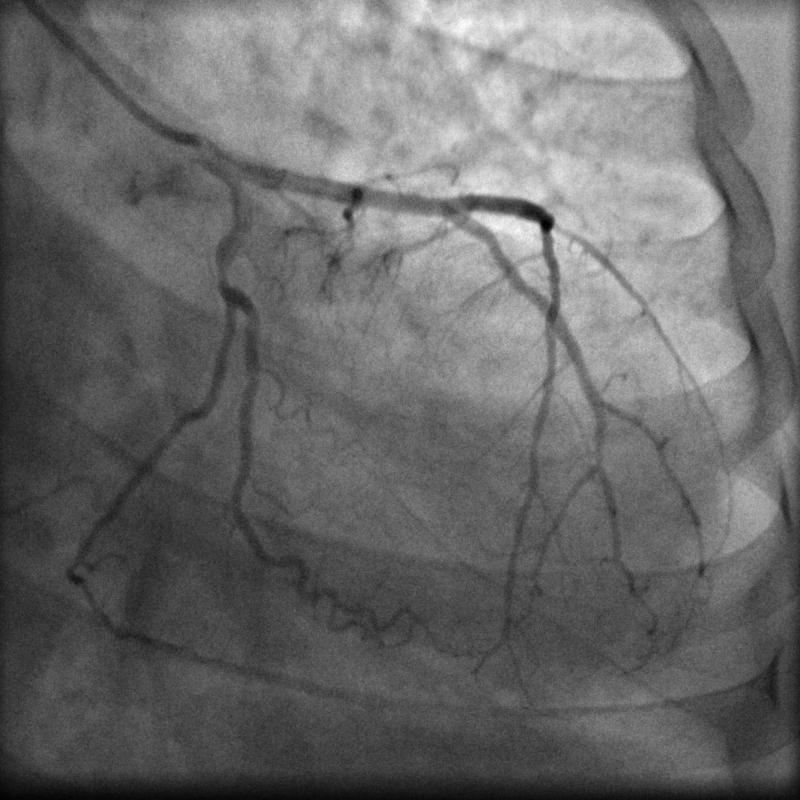Stenosis: (206, 248, 242, 293)
